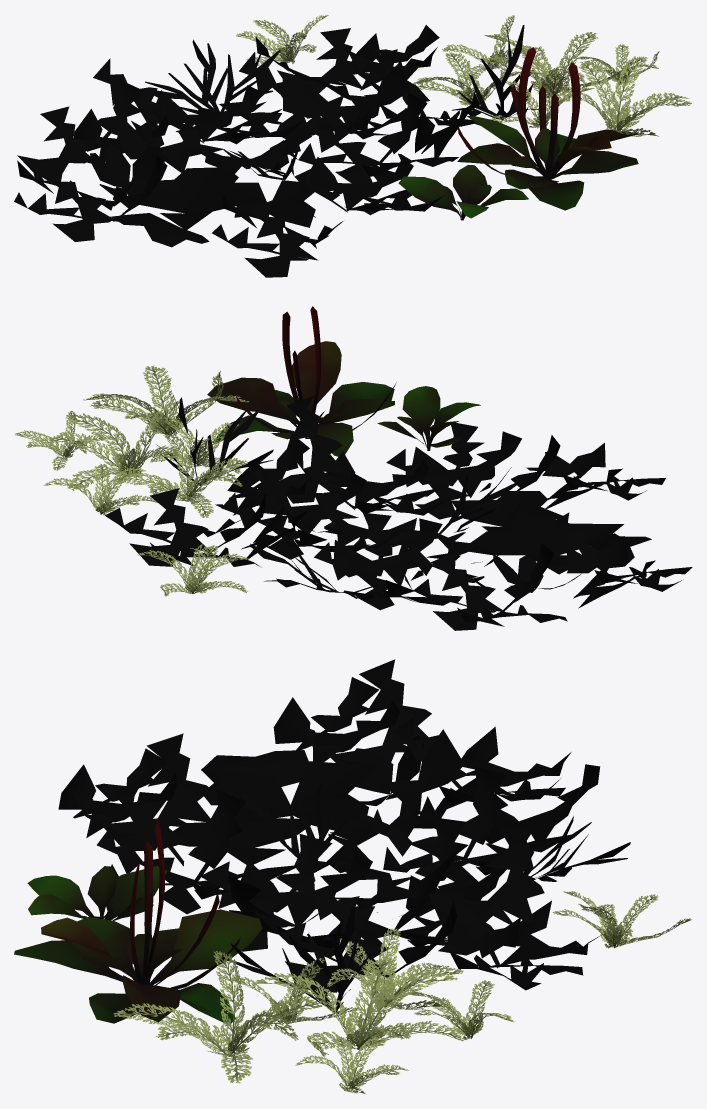
The model's file is SM_Plant_Grass_Field_Assemble_03.fbx.
3 renders of one model, top to bottom at view 1: azimuth 30°, elevation 25°; view 2: azimuth 150°, elevation 25°; view 3: azimuth 270°, elevation 25°, orthographic. The views are drawn at different scales.
Parts seen in each view (by area): view 1: SM_Plant_Grass_Field_Assemble_03; view 2: SM_Plant_Grass_Field_Assemble_03; view 3: SM_Plant_Grass_Field_Assemble_03.
Boxes of the visible parts, x1,y1,x2,y2 form: SM_Plant_Grass_Field_Assemble_03: (14,14,691,277); SM_Plant_Grass_Field_Assemble_03: (15,306,692,630); SM_Plant_Grass_Field_Assemble_03: (14,659,691,1093).
Bounding box in the file's own units: 145 × 29.28 × 104.
